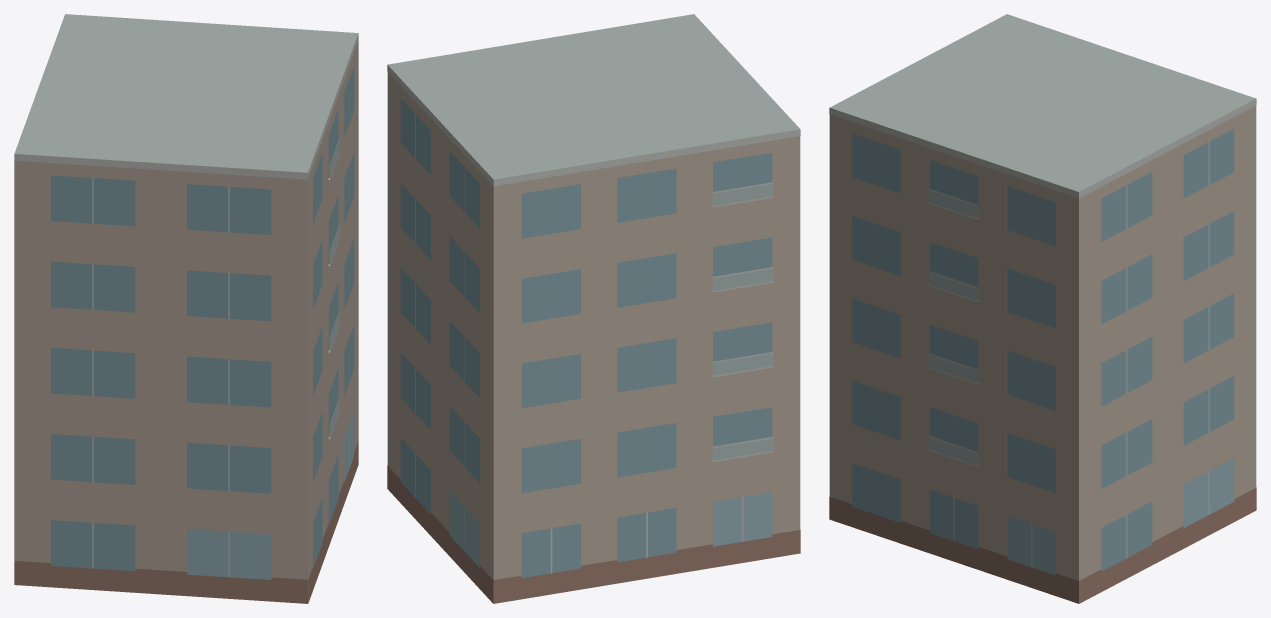
The model's file is residential-8da7fe9e-c579-4591-96e9-43a83a4f9dd2.glb.
3 views of the same model, side by side, from view 1: azimuth 30°, elevation 25°; view 2: azimuth 150°, elevation 25°; view 3: azimuth 270°, elevation 25° (orthographic). The views are drawn at different scales.
Parts seen in each view (by area): view 1: residential-8da7fe9e-c579-4591-96e9-43a83a4f9dd2.tmp; view 2: residential-8da7fe9e-c579-4591-96e9-43a83a4f9dd2.tmp; view 3: residential-8da7fe9e-c579-4591-96e9-43a83a4f9dd2.tmp.
Part boxes in pixels (x1,y1,x2,y2): residential-8da7fe9e-c579-4591-96e9-43a83a4f9dd2.tmp: (14, 14, 358, 603); residential-8da7fe9e-c579-4591-96e9-43a83a4f9dd2.tmp: (387, 14, 800, 603); residential-8da7fe9e-c579-4591-96e9-43a83a4f9dd2.tmp: (829, 14, 1256, 603).
Size of the model in its own units: 14.15 by 15.25 by 14.34.
